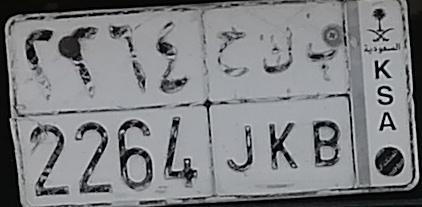2: (24, 25, 70, 200), (68, 23, 113, 199)
4: (155, 21, 197, 192)
6: (110, 20, 153, 190)
B: (307, 42, 345, 169)
J: (215, 29, 256, 172)
K: (261, 25, 299, 172)
